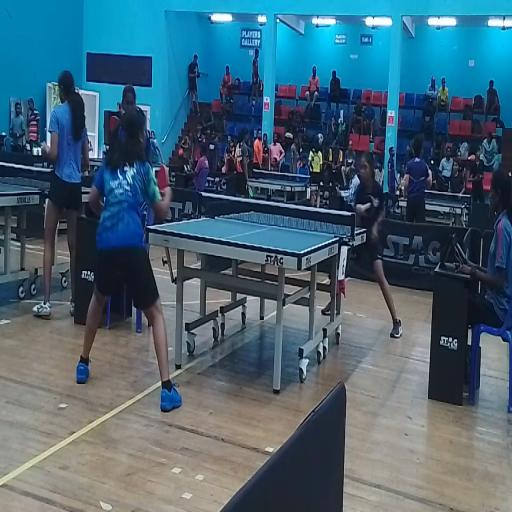ball: (357, 203, 370, 213)
